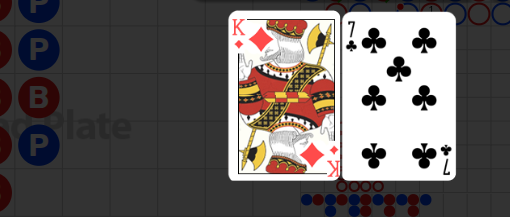7C: (439, 142, 454, 177)
KD: (230, 17, 245, 50)
